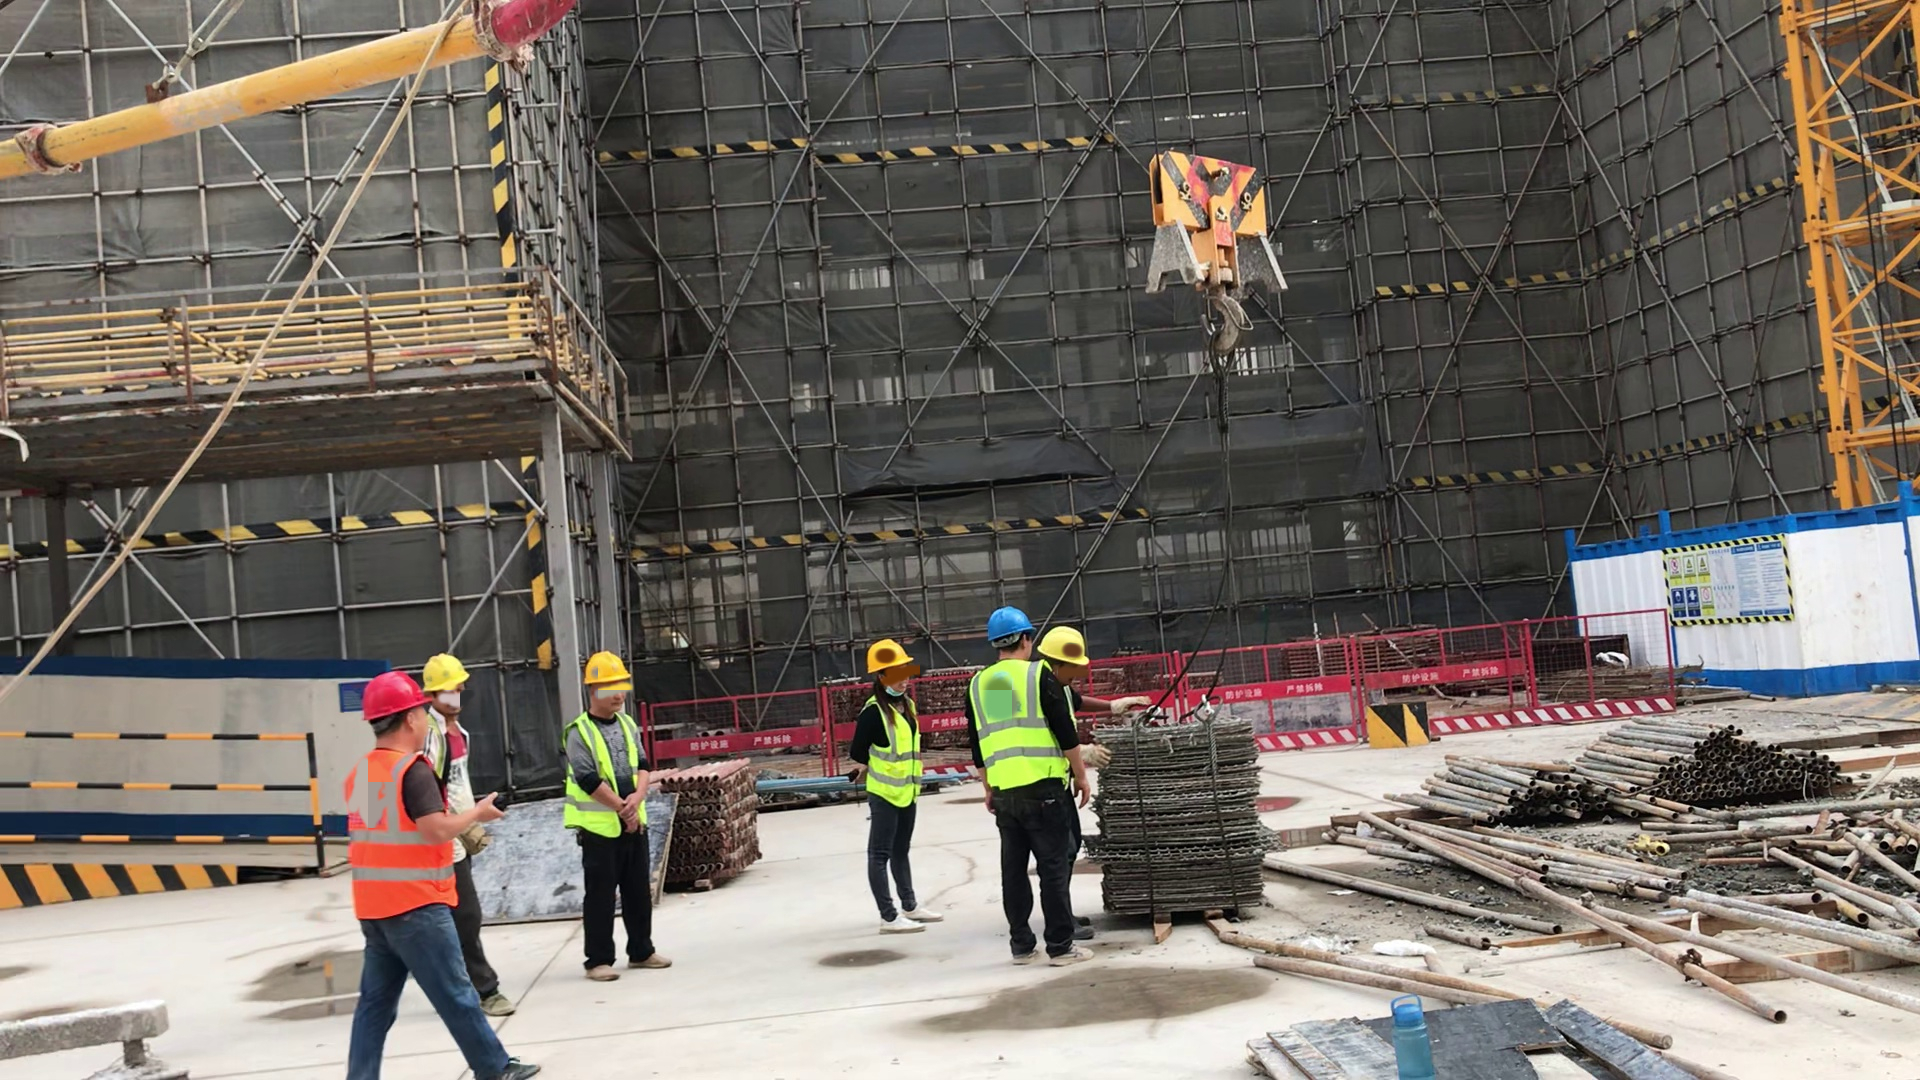fence: (8, 723, 326, 867), (1448, 605, 1674, 734), (1247, 630, 1362, 753), (747, 680, 841, 779)
helmet: (354, 671, 433, 717), (1040, 627, 1091, 669), (421, 657, 470, 698), (581, 652, 632, 687), (989, 612, 1037, 648), (866, 637, 912, 672)
hook: (1141, 139, 1295, 368)
person: (341, 669, 545, 1080), (964, 608, 1100, 975), (564, 652, 675, 983), (841, 634, 951, 938), (419, 653, 485, 949), (1039, 627, 1152, 713)
scaffold: (1577, 702, 1859, 813), (1392, 749, 1637, 819), (682, 757, 766, 885)
slogan: (1665, 546, 1789, 618)
vest: (344, 748, 464, 926), (967, 660, 1075, 800), (570, 713, 649, 842), (859, 695, 929, 815)
